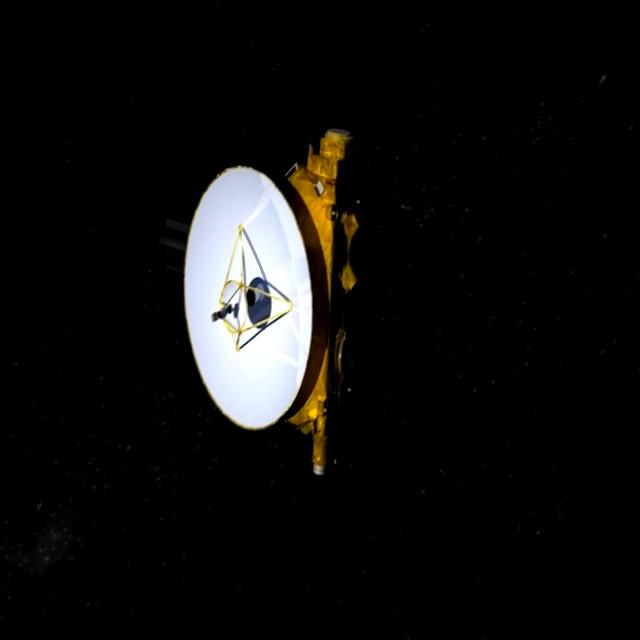satellite: (188, 113, 364, 495)
